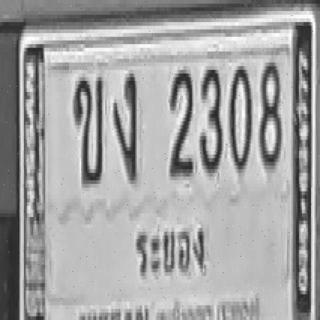A02: (73, 74, 103, 184)
A07: (114, 72, 138, 182)
N00: (229, 63, 252, 173)
N02: (169, 66, 193, 176)
N03: (199, 66, 222, 173)
N08: (258, 59, 281, 169)
P53: (130, 218, 209, 280)
